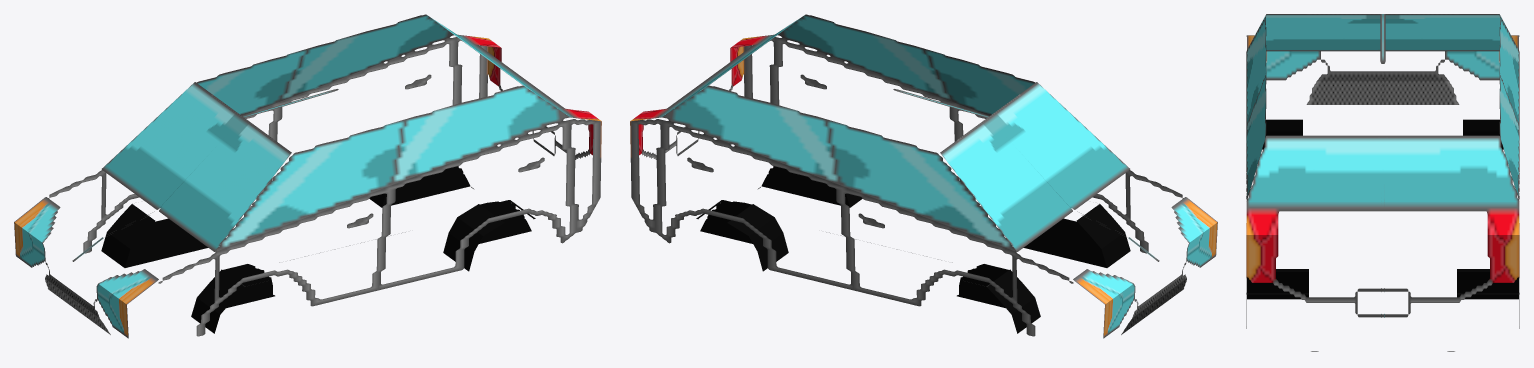
Rendered from trafic cars-SUV.fbx.
The picture shows the model from 3 angles, left to right: view 1: azimuth 30°, elevation 25°; view 2: azimuth 150°, elevation 25°; view 3: azimuth 270°, elevation 25°; orthographic projection. The views are drawn at different scales.
Visible parts, largest first — view 1: SUV; view 2: SUV; view 3: SUV.
Boxes of the visible parts, x1=… form: SUV: x1=14, y1=14, x2=601, y2=338; SUV: x1=630, y1=14, x2=1217, y2=338; SUV: x1=1246, y1=14, x2=1519, y2=351.
Bounding box in the file's own units: 427 × 347 × 1033.
Materials: 1 (1 with a texture image).
